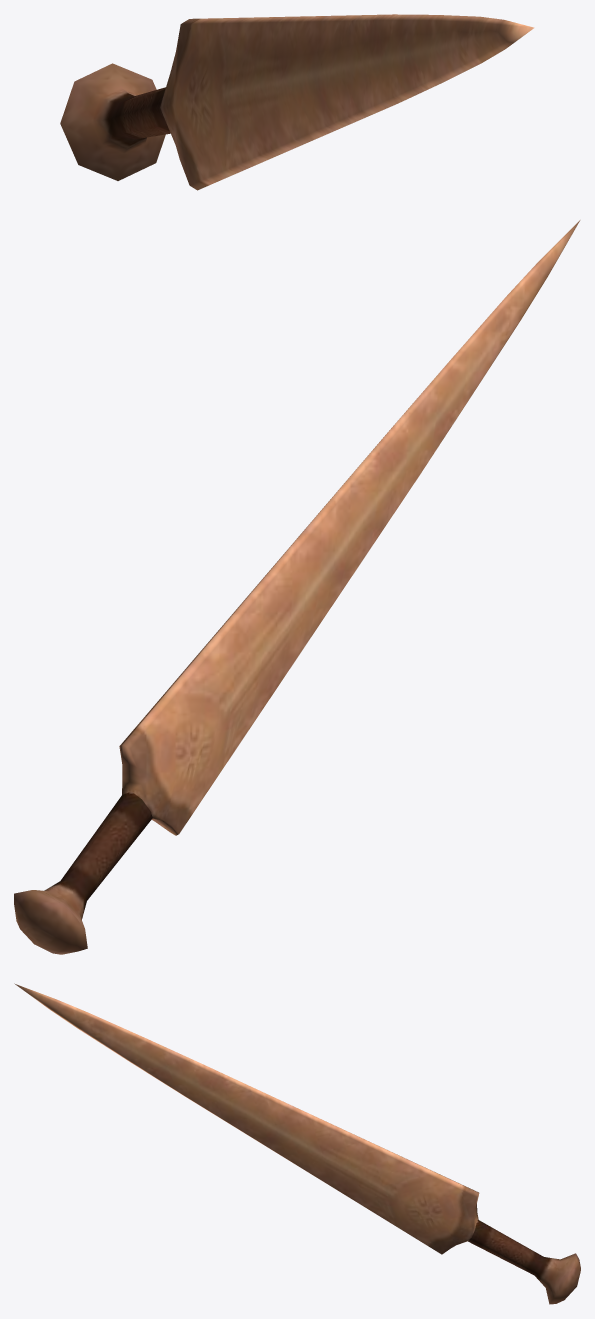
File: weapon-ironweapons.glb
3 views of the same model, one above another, from view 1: azimuth 30°, elevation 25°; view 2: azimuth 150°, elevation 25°; view 3: azimuth 270°, elevation 25° (orthographic). The views are drawn at different scales.
Size of the model in its own units: 0.1785 by 0.5492 by 0.9821.
Materials: 1 (1 with a texture image).
